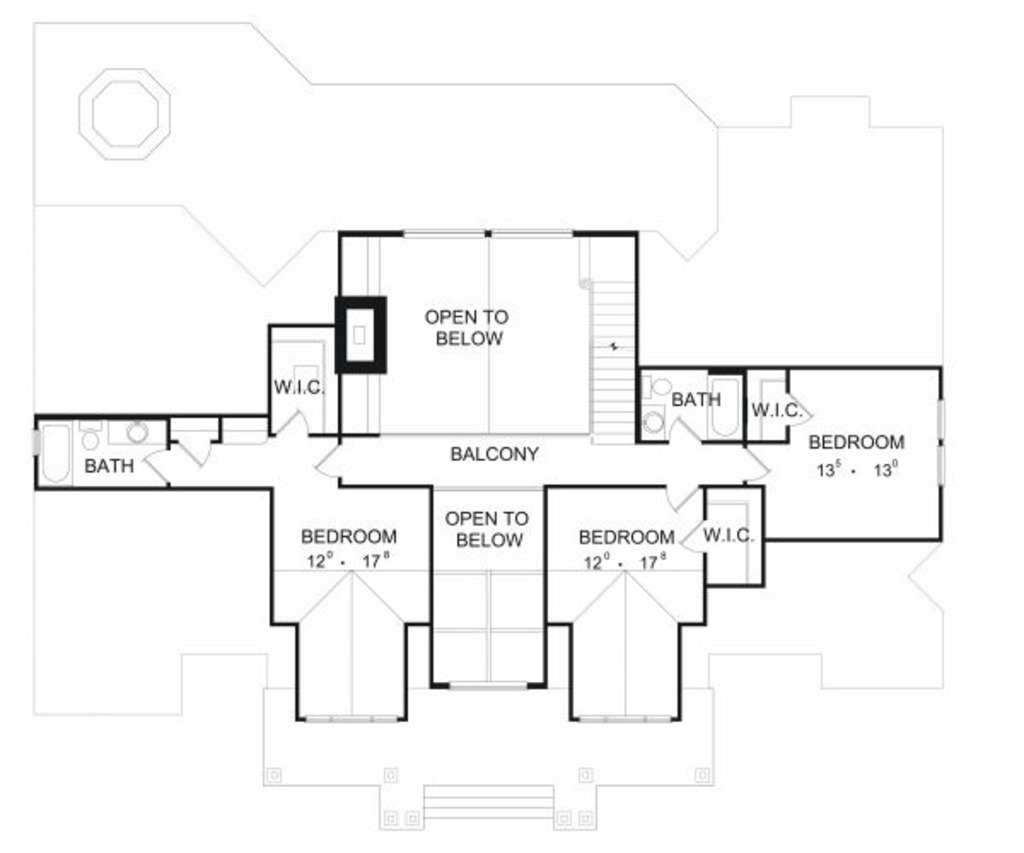door: (311, 435, 350, 480), (144, 447, 186, 486), (169, 435, 219, 465), (663, 482, 701, 514), (667, 414, 702, 447), (680, 511, 710, 547), (276, 412, 314, 440), (743, 449, 767, 482), (785, 397, 810, 427)
large_sink: (73, 411, 110, 451), (636, 373, 681, 403)
small_sink: (636, 409, 667, 448), (118, 422, 165, 447)
stairs: (582, 234, 632, 448)
tub: (36, 414, 73, 490), (702, 372, 739, 444)
window: (393, 218, 573, 241), (297, 702, 405, 726), (581, 709, 681, 728), (934, 394, 948, 490), (439, 677, 534, 691)
